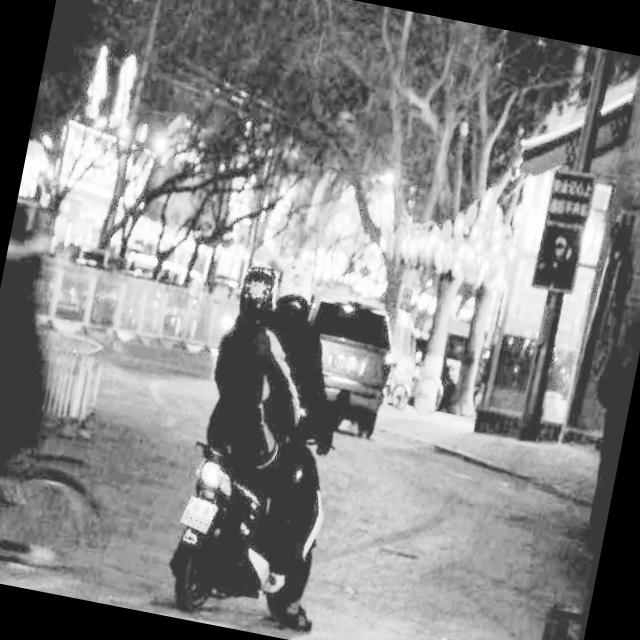Car: (278, 270, 425, 449)
Motorcycle: (118, 353, 383, 640)
